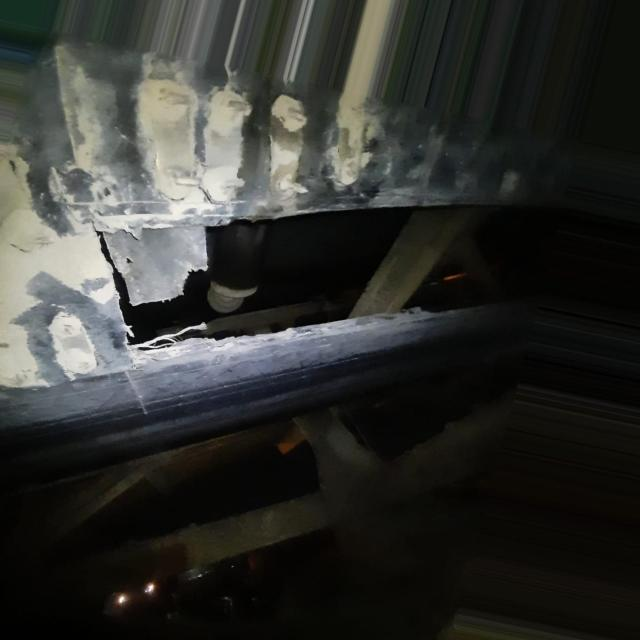Hole: (104, 199, 640, 350)
